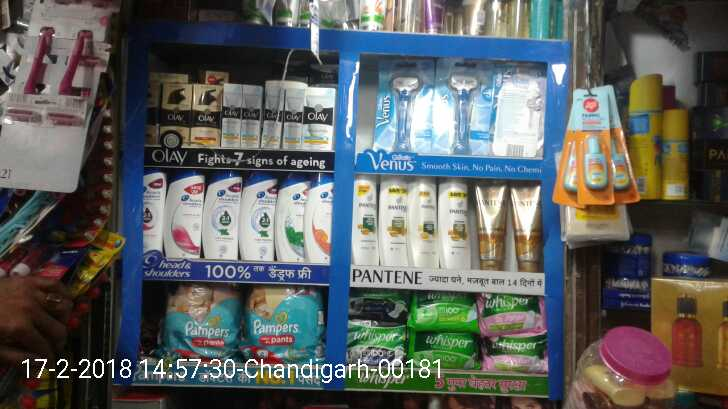venus: (6, 4, 103, 120), (434, 61, 489, 155), (375, 61, 431, 149), (490, 65, 545, 154)
